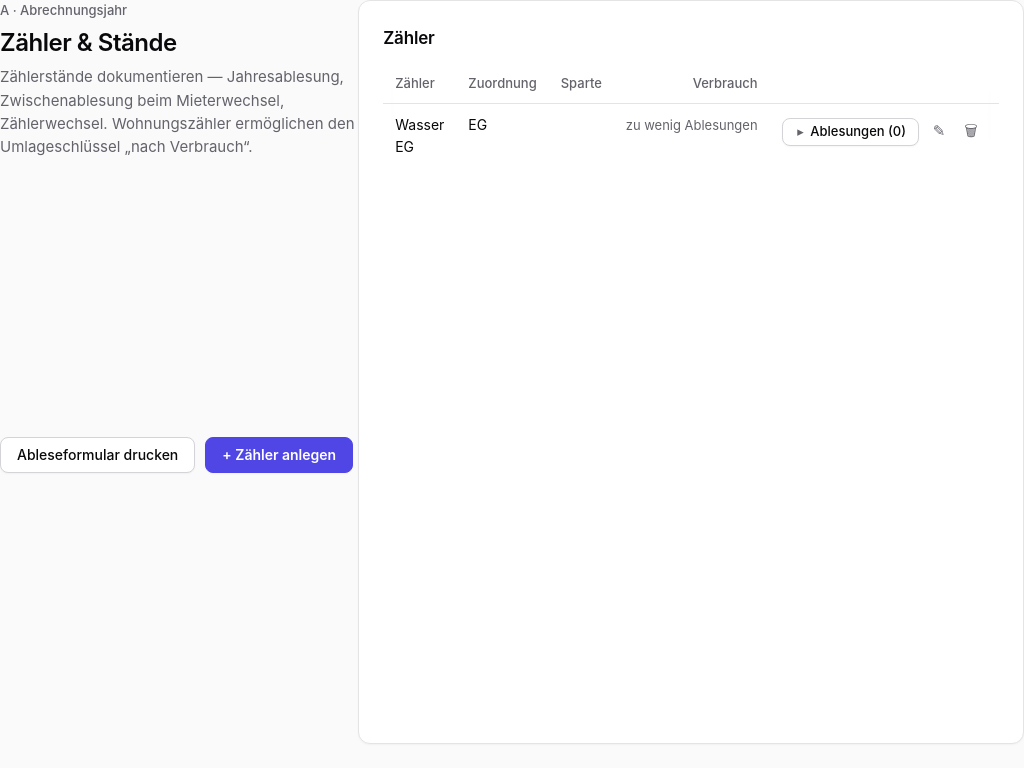
Test case: Ablesung ohne Datum: Meldung am Feld und in der Sammelmeldung über „Anlegen“, die den Fokus bekommt
The image size is (1024, 768).
Click the button "Ablesungen (0)": (850, 132) [782,118,919,146]
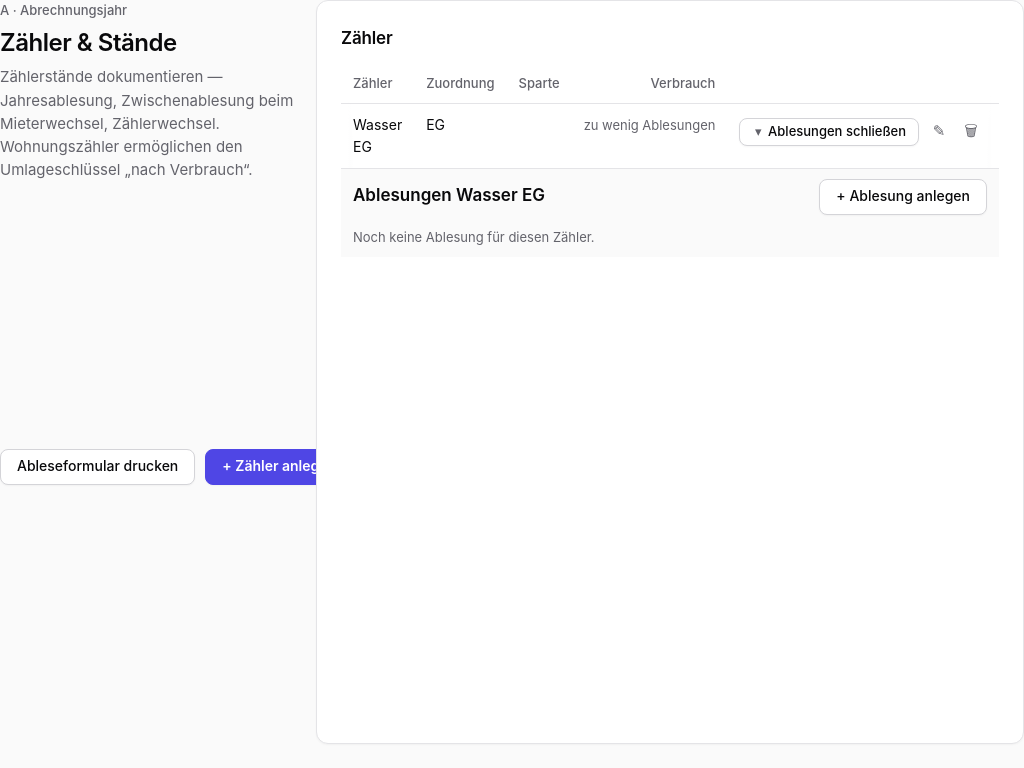
Click the button "+ Ablesung anlegen": (903, 197) [819,179,987,215]
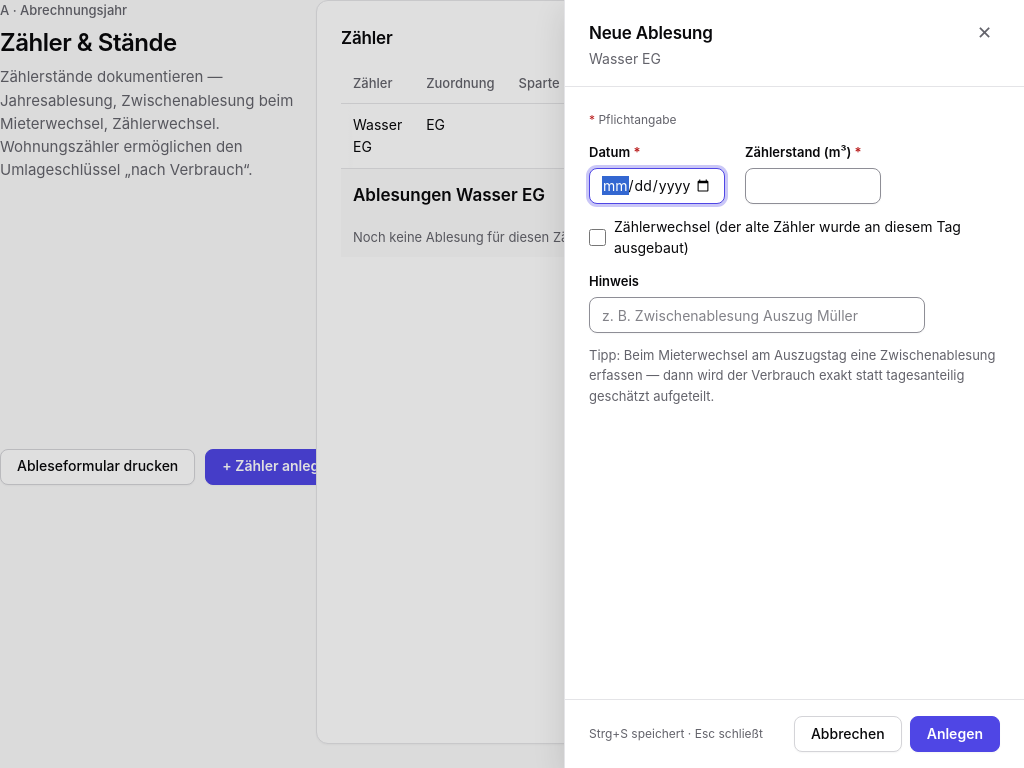
In the field labelled "Zählerstand (m³) *": (813, 186) [745,168,881,204], type "5"
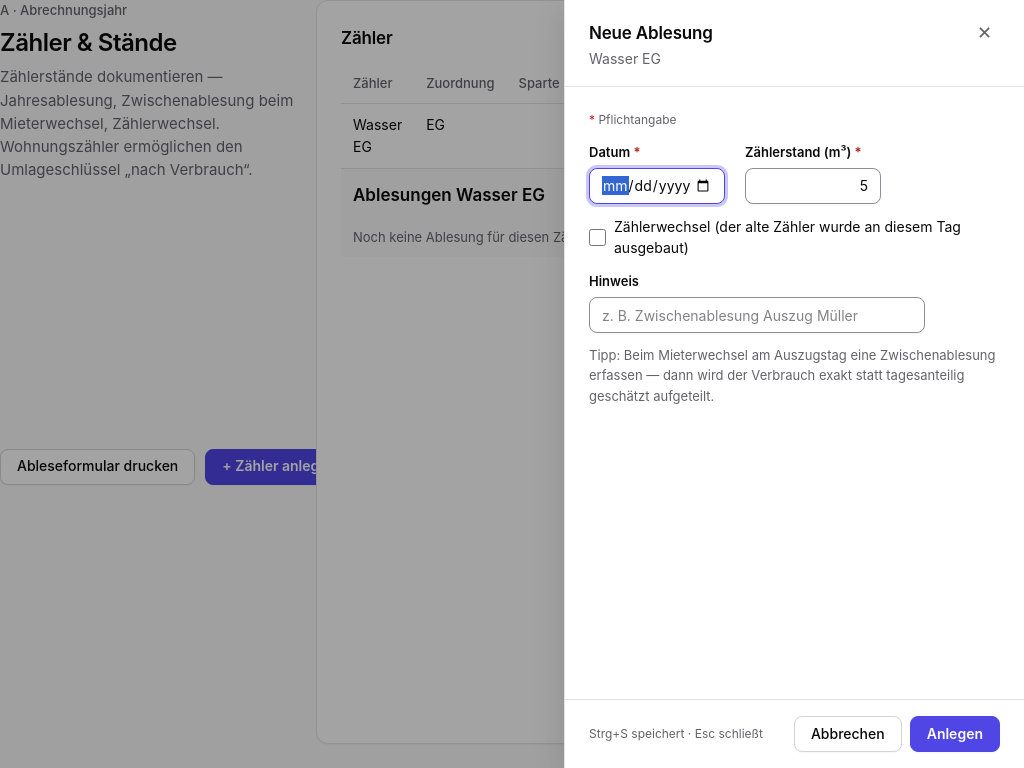
Click the button "Anlegen": (955, 734) [910,716,1000,752]
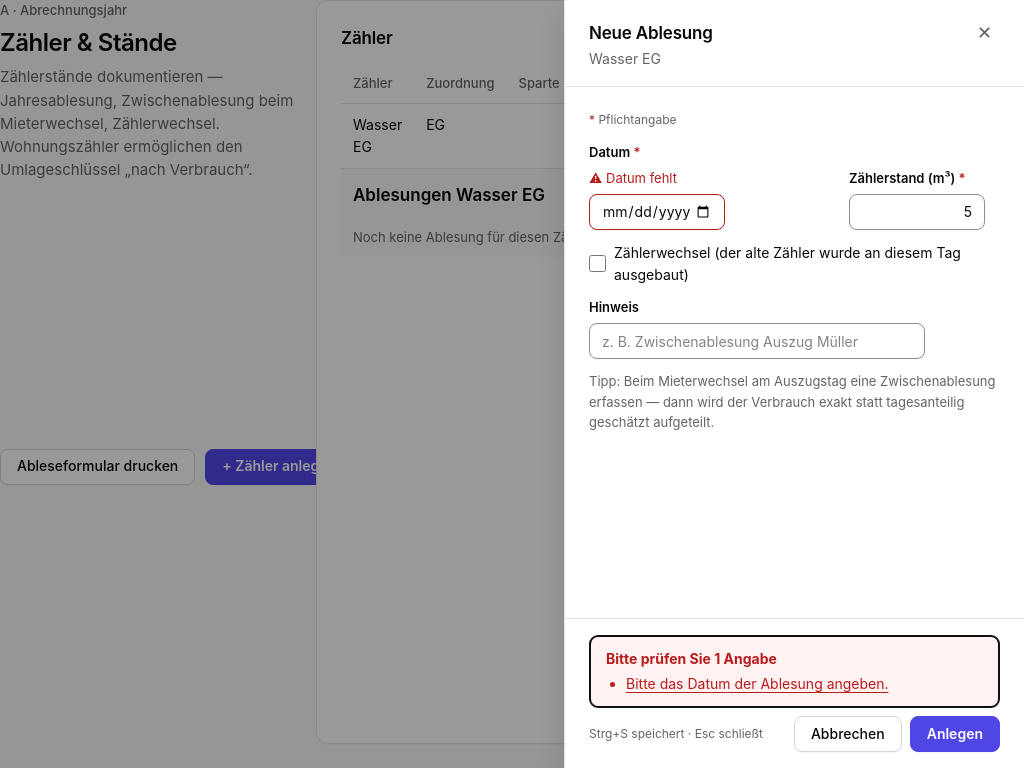
Expected: the message shows "Bitte prüfen Sie 1 Angabe", [606,650,777,667]
Expected: the message shows "Datum der Ablesung"
# Der Link der Sammelmeldung führt aufs Feld.
Click the link "Bitte das Datum der Ablesung angeben.": (757, 684) [626,675,889,692]
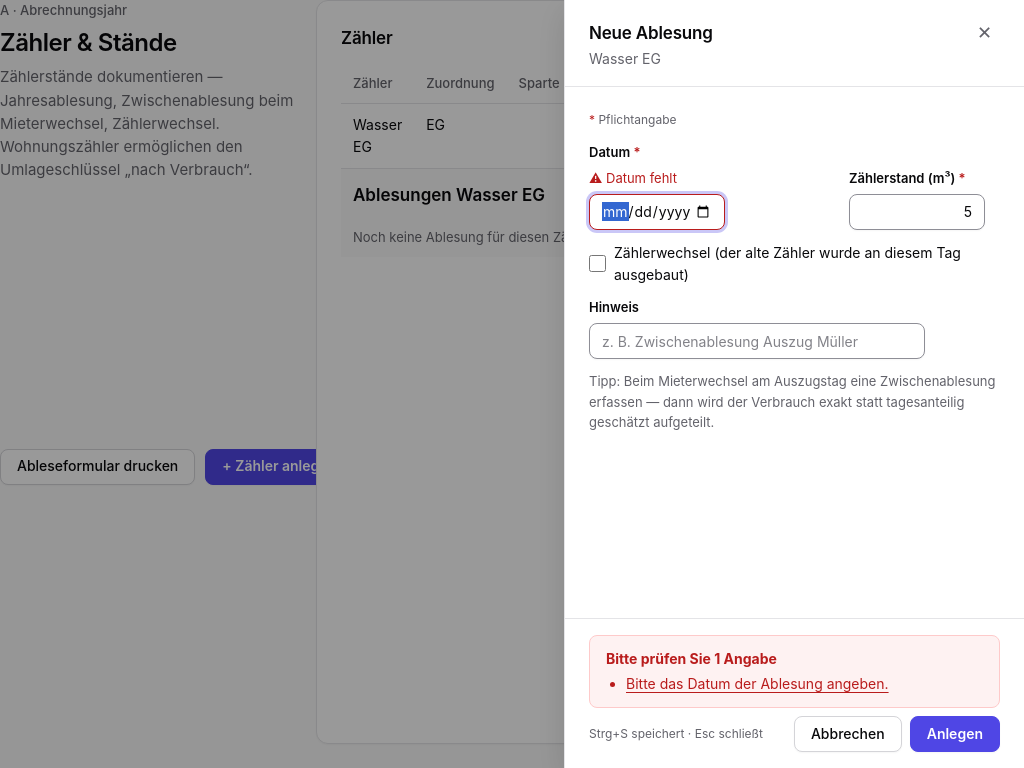
# Mit Datum ist die Meldung an beiden Stellen weg.
In the date field labelled "Datum * ⚠ Datum fehlt": (657, 212) [589,194,725,230], type "2025-06-30"
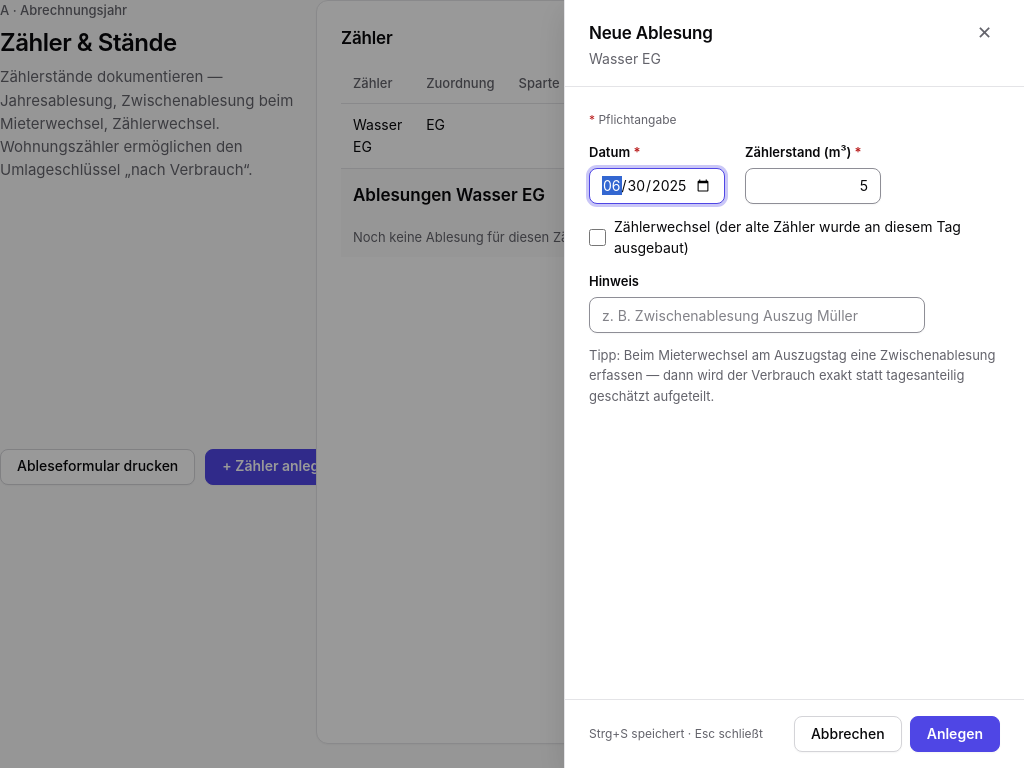
Expected: the message "Bitte prüfen Sie 1 Angabe Bitte das Datum der Ablesung angeben." is gone
